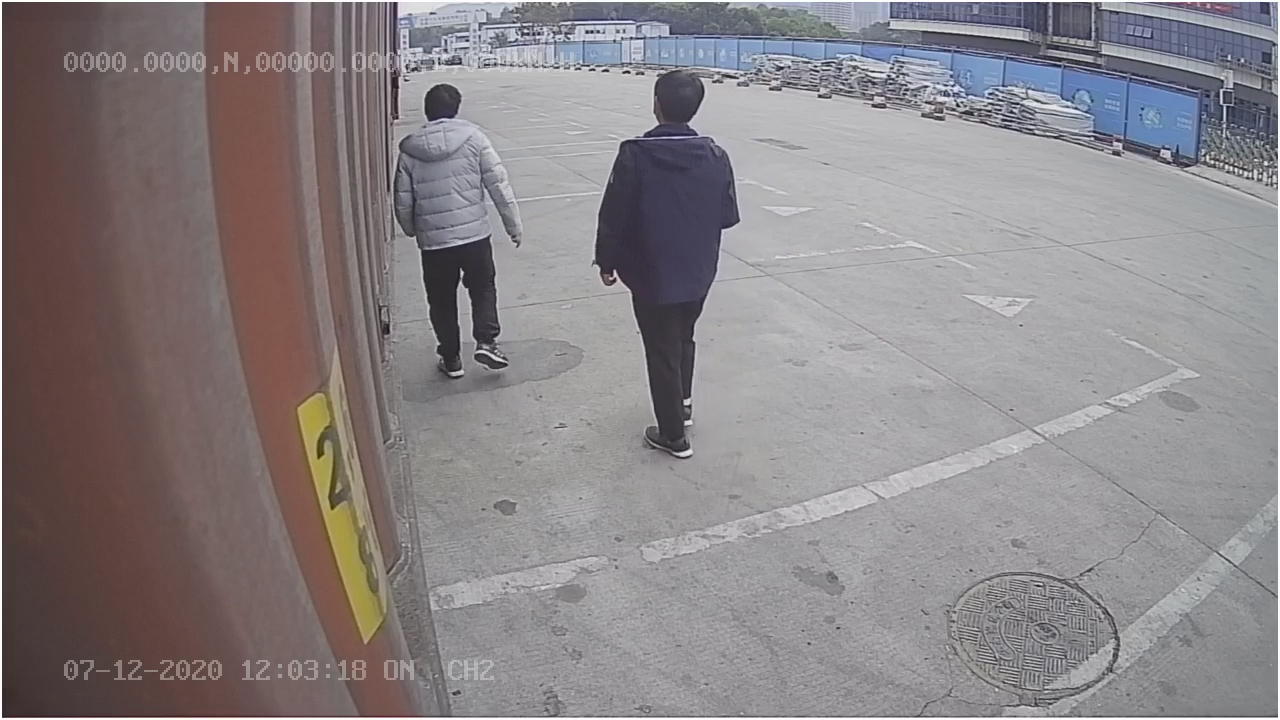person: (594, 65, 746, 456), (396, 80, 524, 383)
